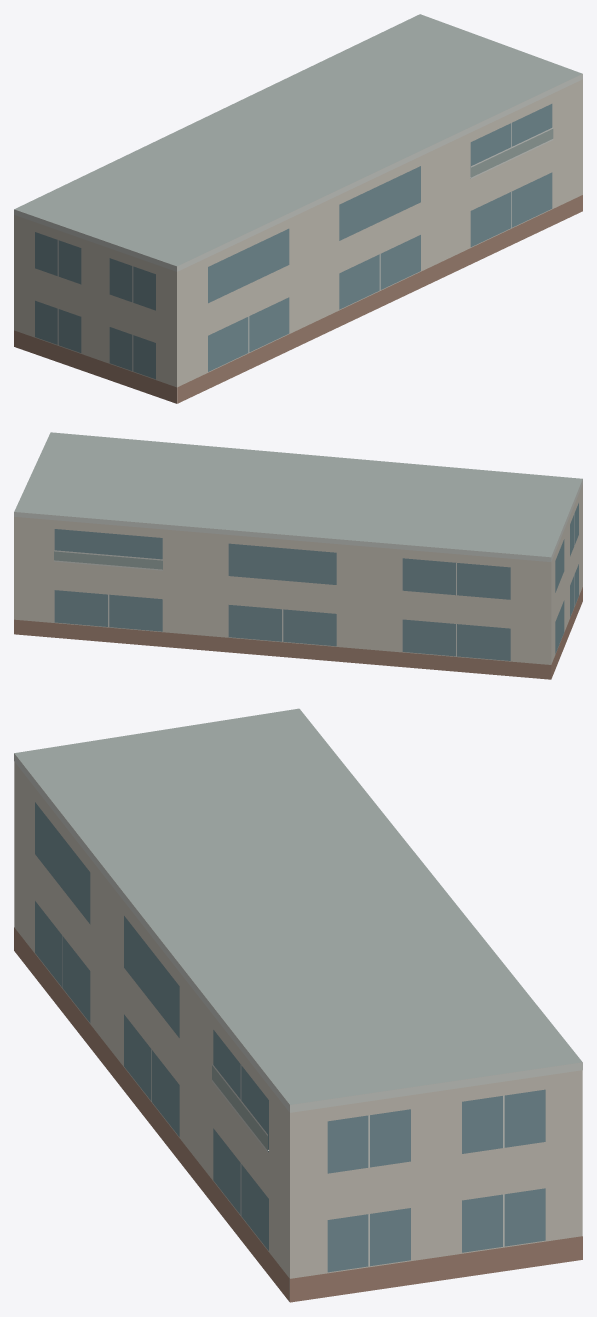
Rendered from survey-upis-32531178.glb.
The picture shows the model from 3 angles, top to bottom: view 1: azimuth 30°, elevation 25°; view 2: azimuth 150°, elevation 25°; view 3: azimuth 270°, elevation 25°; orthographic projection. The views are drawn at different scales.
Parts seen in each view (by area): view 1: survey-upis-32531178.tmp; view 2: survey-upis-32531178.tmp; view 3: survey-upis-32531178.tmp.
Boxes of the visible parts, bbox=[...] form: survey-upis-32531178.tmp: bbox=[14, 14, 582, 403]; survey-upis-32531178.tmp: bbox=[14, 432, 582, 679]; survey-upis-32531178.tmp: bbox=[14, 708, 582, 1302].
Size of the model in its own units: 26.28 by 6.1 by 15.93.
